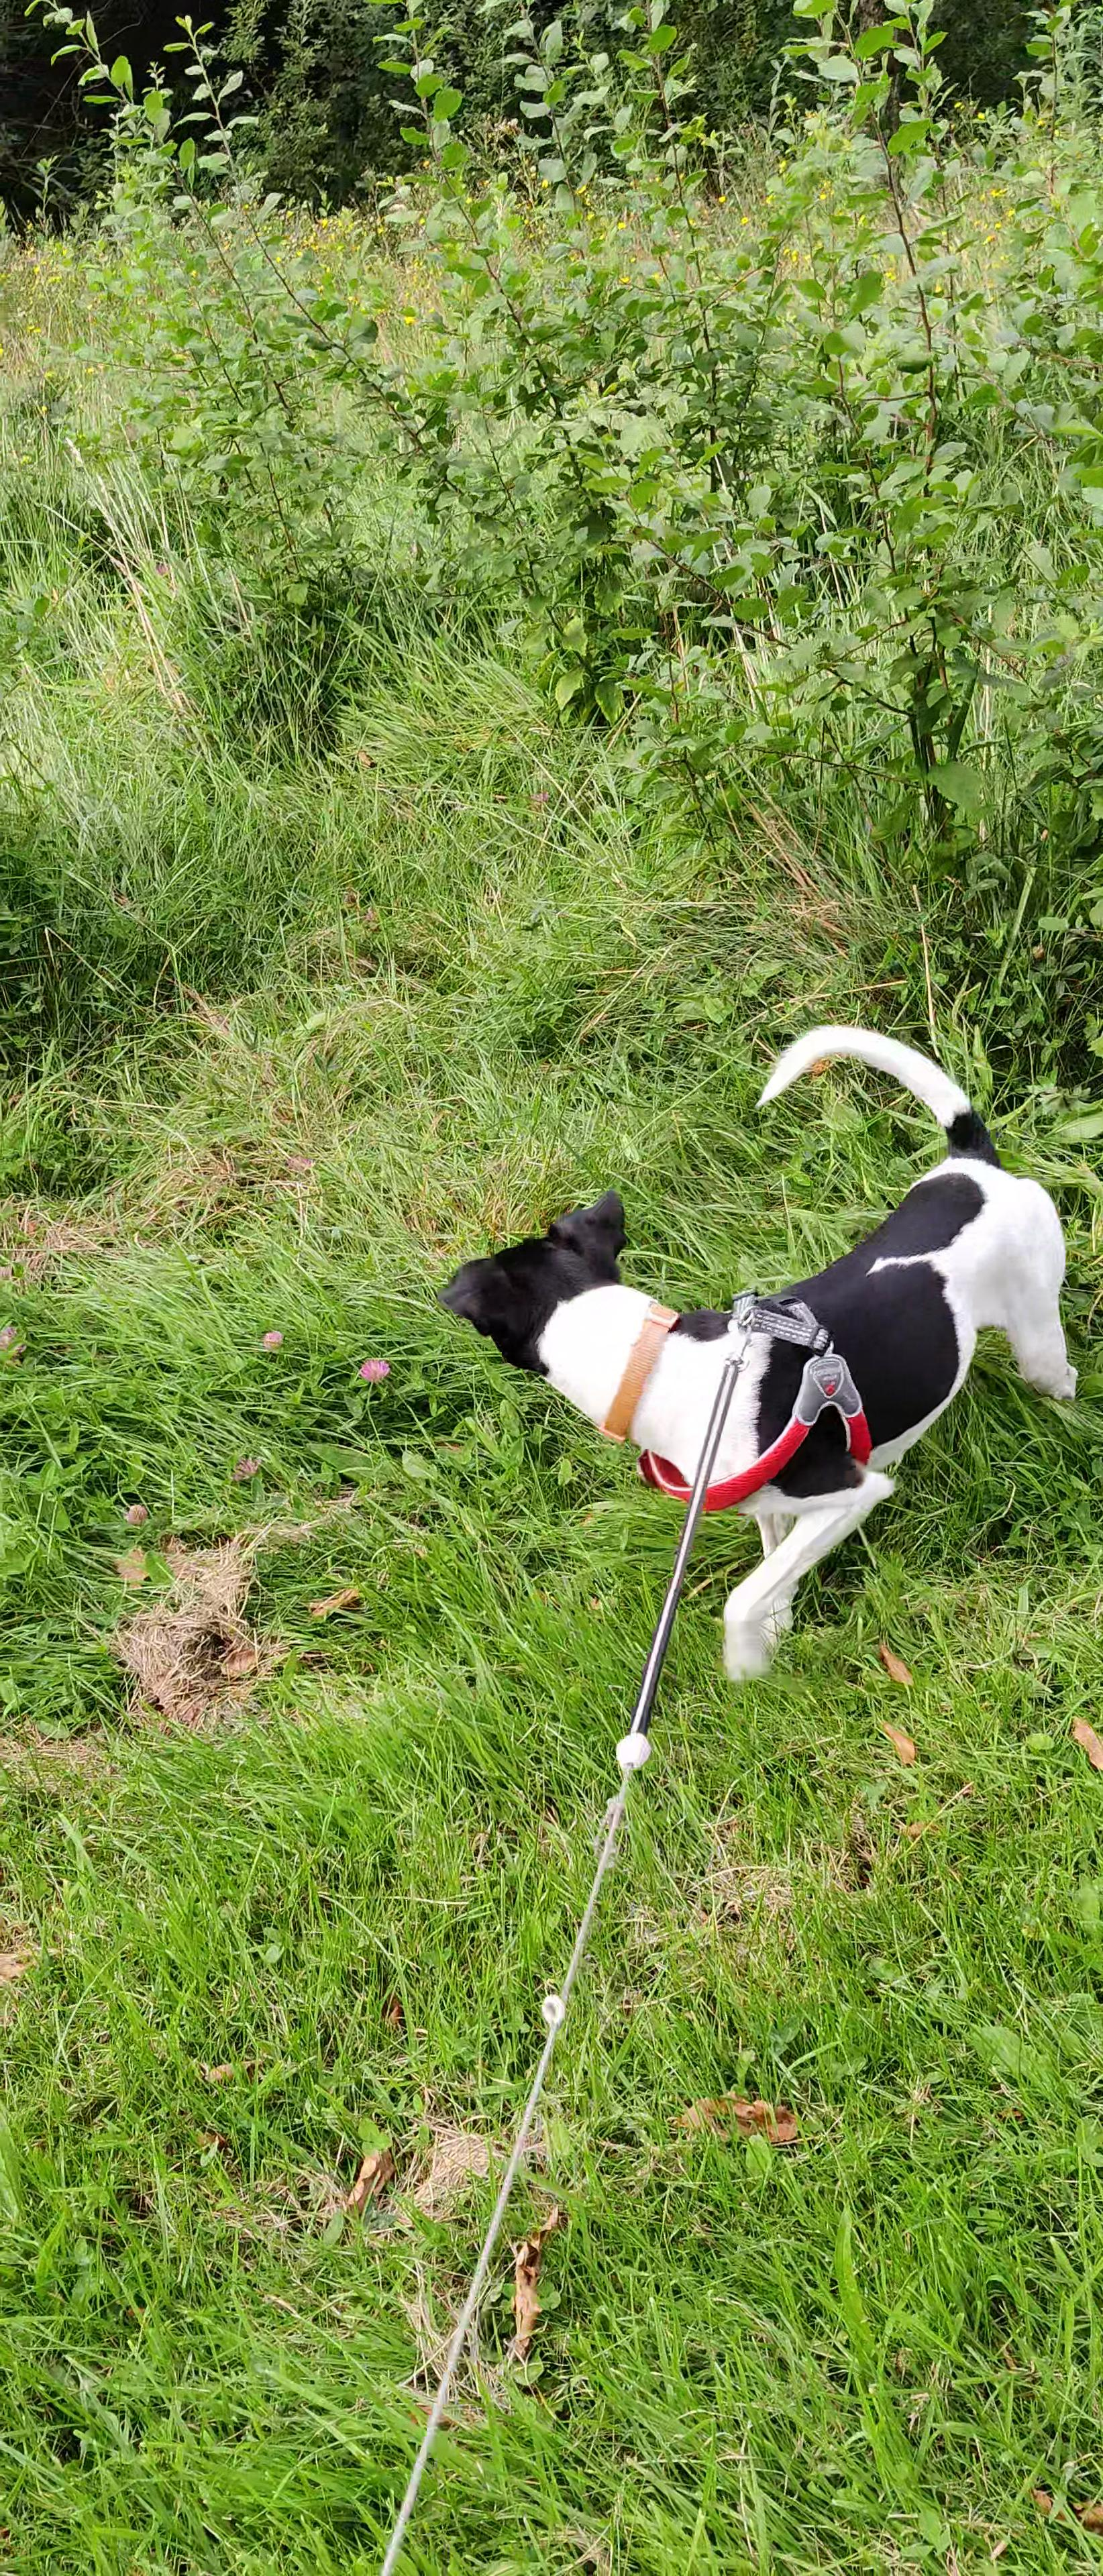Dog: (427, 1005, 1088, 1694)
